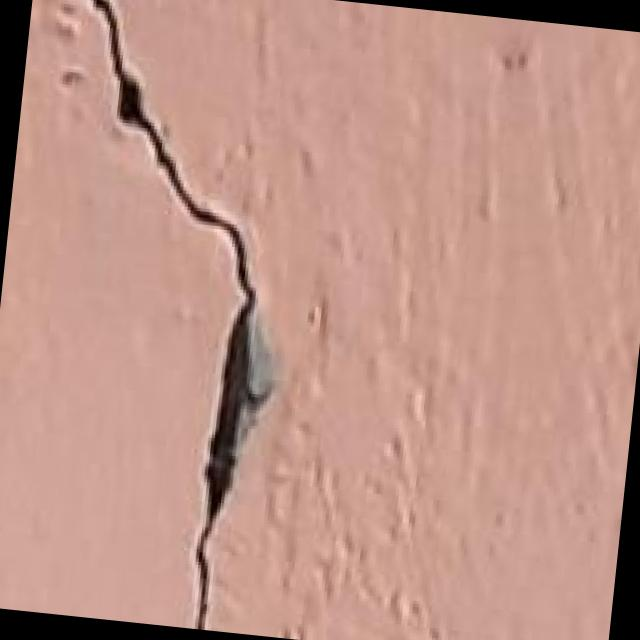crack: (16, 0, 366, 636)
